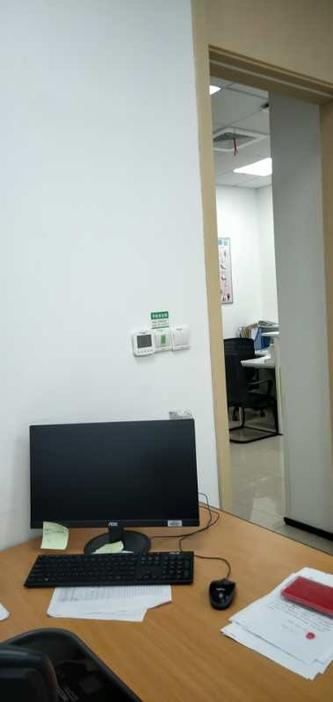switch: (176, 331, 189, 346), (156, 335, 167, 344)
